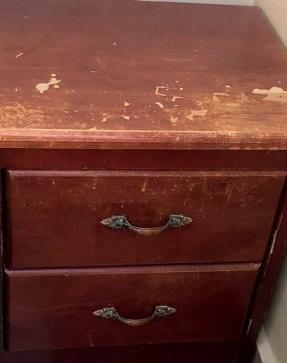cabinet_door: (4, 180, 265, 272), (5, 264, 259, 358)
handle: (97, 211, 195, 243), (91, 300, 178, 334)
